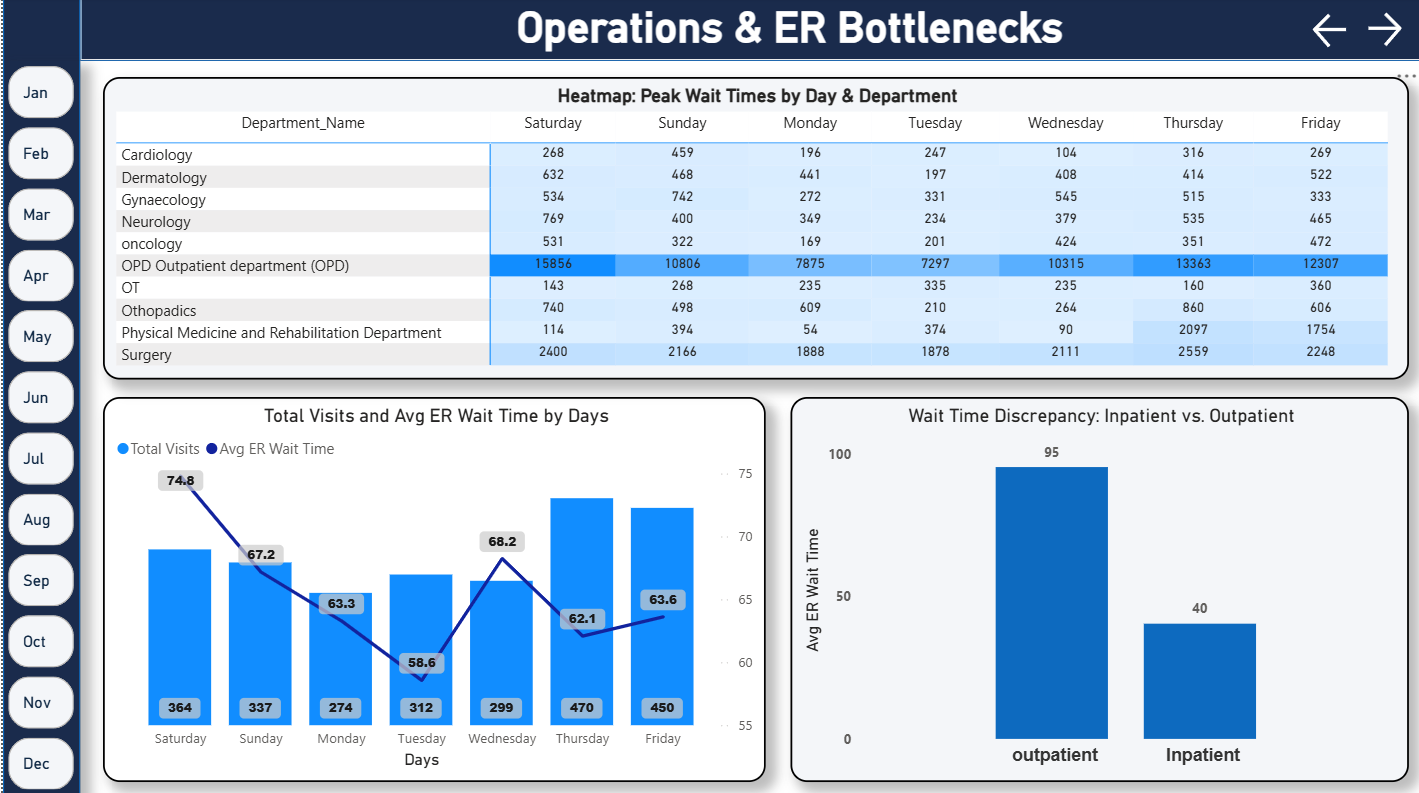

The page's visual inventory and layout, read from the dashboard file:
{"tool":"powerbi","page":{"name":"Operations ","canvas":[1280,720],"ordinal":2},"visuals":[{"type":"shape","box":[69.7,0,1210.6,57.5],"z":0},{"type":"textbox","box":[434.1,0,551.5,57.5],"z":1000},{"type":"pivotTable","title":"Heatmap: Peak Wait Times by Day & Department","fields":{"Rows":["Dep.Department_Name"],"Values":["dax 2.Total ER Wait Time"],"Columns":["Calendar.Days"]},"box":[90.5,72.1,1177.6,272.7],"z":2000},{"type":"lineStackedColumnComboChart","fields":{"Y":["Dax.Total Visits"],"Y2":["dax 2.Avg ER Wait Time"],"Category":["Calendar.Days"]},"box":[90.5,360.7,598,347.3],"z":3000},{"type":"clusteredColumnChart","title":"Wait Time Discrepancy: Inpatient vs. Outpatient","fields":{"Y":["dax 2.Avg ER Wait Time"],"Category":["Fact_patient.Patient type"]},"box":[710.5,360.7,557.6,347.3],"z":4000},{"type":"shape","box":[0,0,69.7,721.5],"z":5000},{"type":"advancedSlicerVisual","fields":{"Values":["Calendar.Month_Name"]},"box":[0,57.2,69.7,662.8],"z":6000},{"type":"actionButton","box":[1225.3,8.6,46.5,40.4],"z":7000},{"type":"actionButton","box":[1176.4,9.8,48.9,40.4],"z":8000}]}

Visuals, with their boxes in screenshot pixels (x1, y1, x2, y2), scaled from the page's 1280x720 canvas onto the 1419x793 screenshot:
shape: Rect(77, 0, 1418, 63)
textbox: Rect(481, 0, 1093, 63)
"Heatmap: Peak Wait Times by Day & Department" pivotTable: Rect(100, 79, 1406, 380)
lineStackedColumnComboChart - Dax.Total Visits x dax 2.Avg ER Wait Time: Rect(100, 397, 763, 780)
"Wait Time Discrepancy: Inpatient vs. Outpatient" clusteredColumnChart: Rect(788, 397, 1406, 780)
shape: Rect(0, 0, 77, 792)
advancedSlicerVisual - Calendar.Month_Name: Rect(0, 63, 77, 792)
actionButton: Rect(1358, 9, 1410, 54)
actionButton: Rect(1304, 11, 1358, 55)
